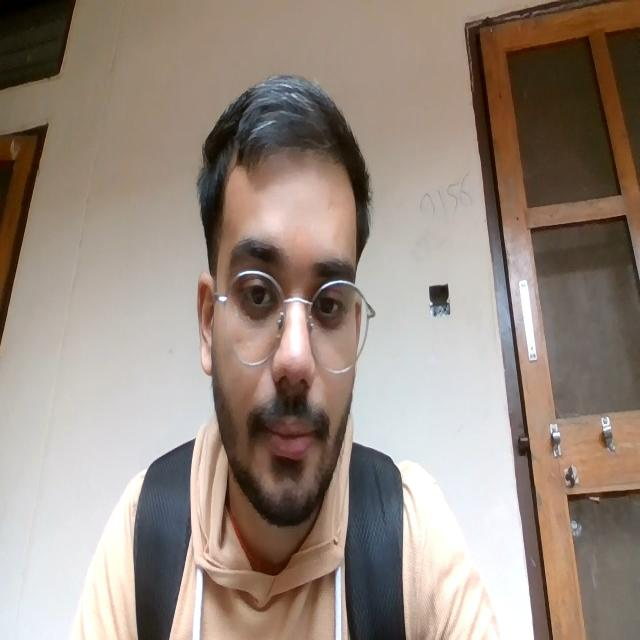awake: (216, 221, 360, 496)
